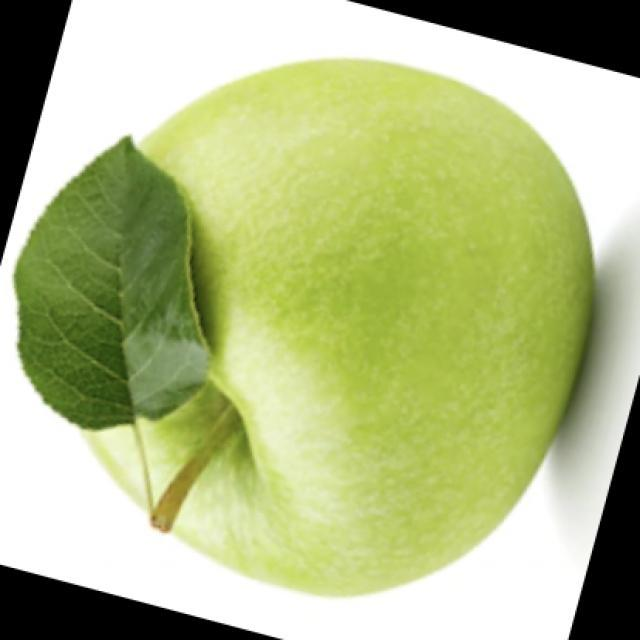Fresh Apple: (127, 75, 555, 547)
